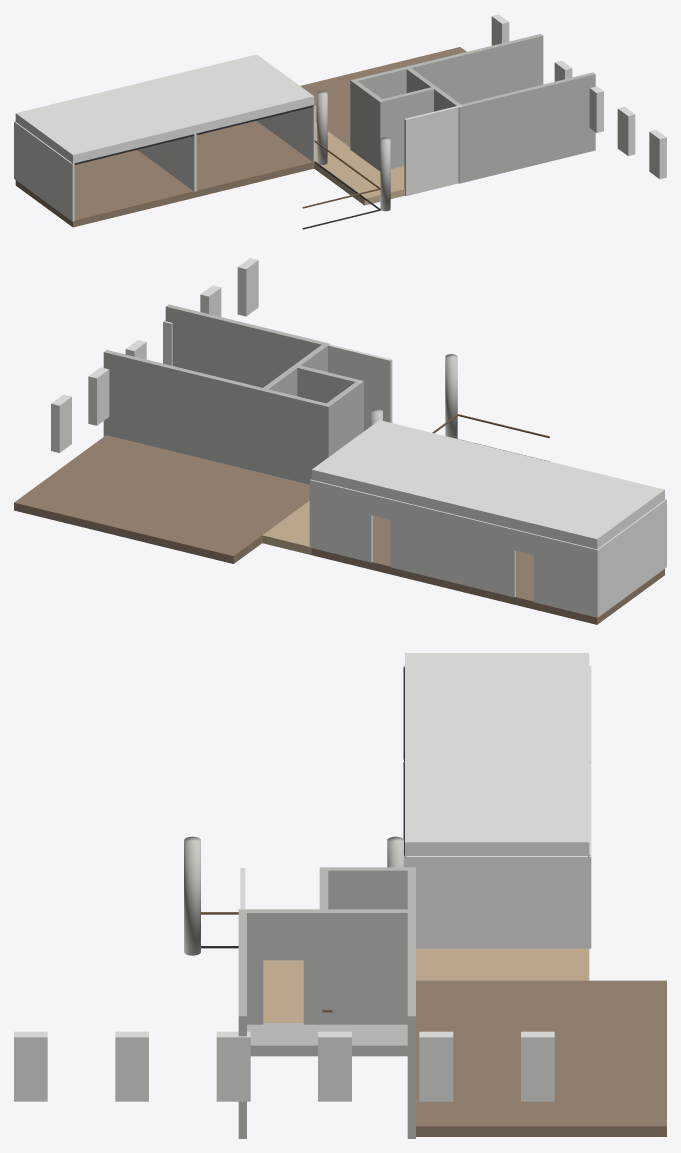
The model's file is SM_Bygg_Helgasetr_P3_O_MN.fbx.
The picture shows the model from 3 angles, top to bottom: view 1: azimuth 30°, elevation 25°; view 2: azimuth 150°, elevation 25°; view 3: azimuth 270°, elevation 25°; orthographic projection. The views are drawn at different scales.
Visible parts, largest first — view 1: SM_Bygg_Helgasetr_P3_O_MN; view 2: SM_Bygg_Helgasetr_P3_O_MN; view 3: SM_Bygg_Helgasetr_P3_O_MN.
Part boxes in pixels (x1,y1,x2,y2): SM_Bygg_Helgasetr_P3_O_MN: (14, 14, 666, 229); SM_Bygg_Helgasetr_P3_O_MN: (14, 258, 666, 624); SM_Bygg_Helgasetr_P3_O_MN: (14, 653, 666, 1138).
Size of the model in its own units: 19.32 by 26.01 by 4.
